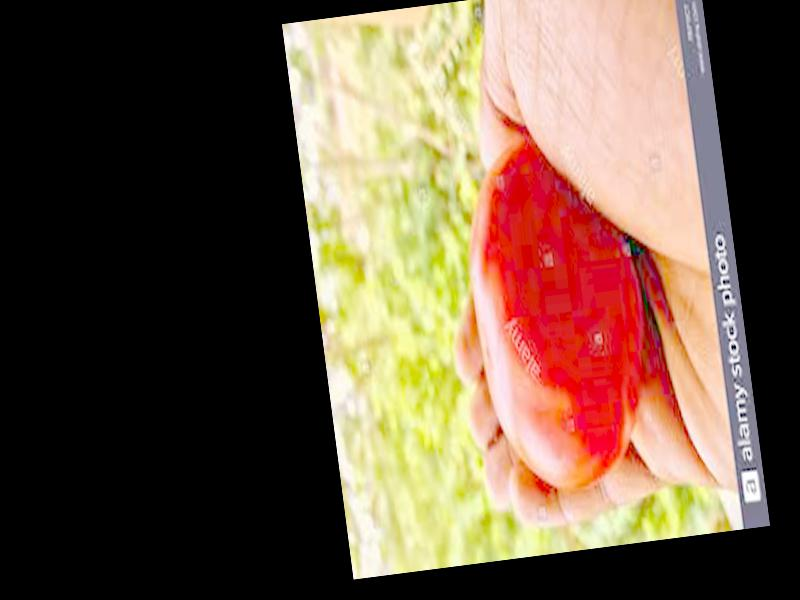Tomato: (457, 133, 662, 497)
